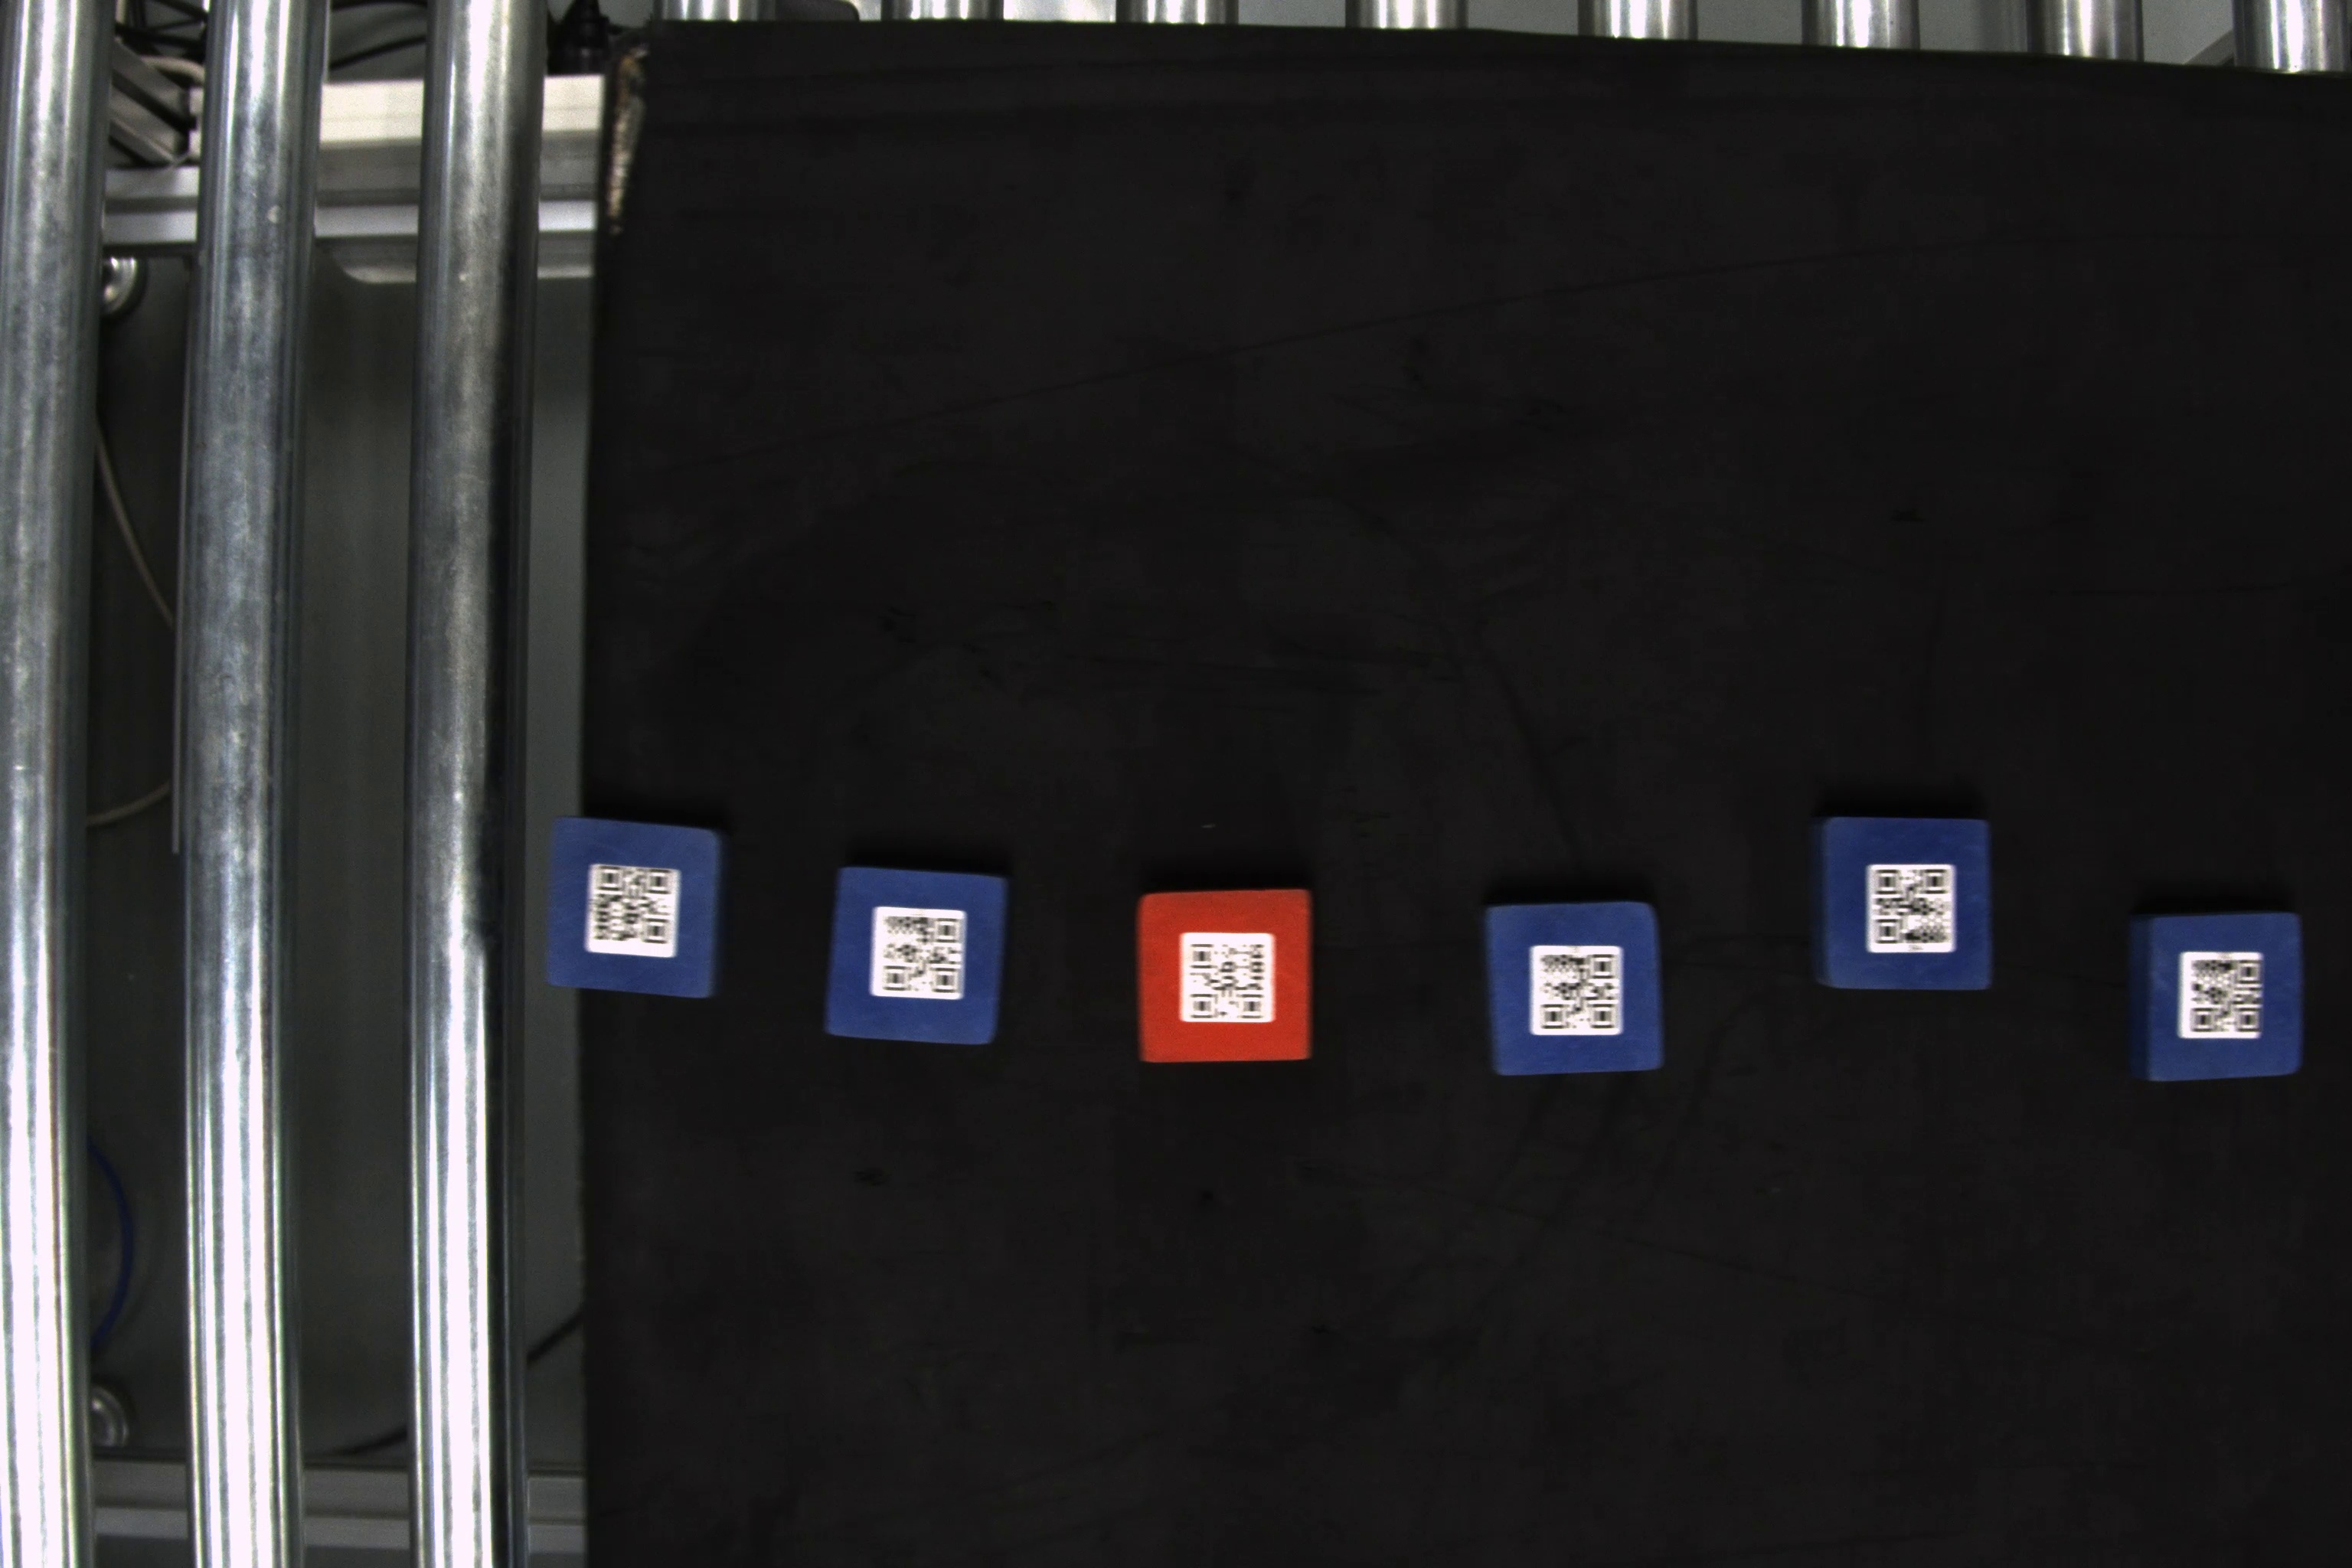wood: (814, 857, 1011, 1053), (544, 810, 733, 1004), (1123, 884, 1318, 1071), (1809, 810, 2002, 997), (2124, 910, 2308, 1088), (1482, 901, 1664, 1078)
